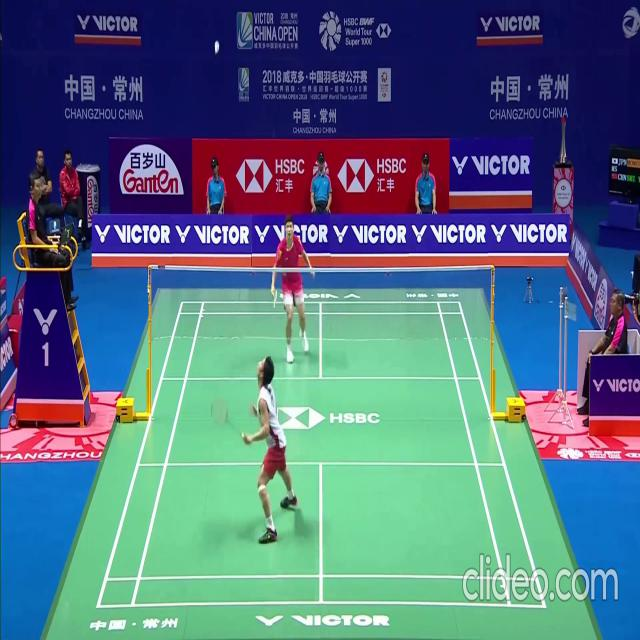Shuttlecock: (214, 48, 219, 55)
